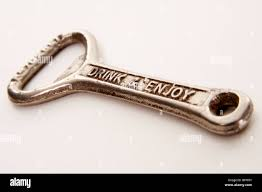bottleopener: (6, 27, 256, 137)
